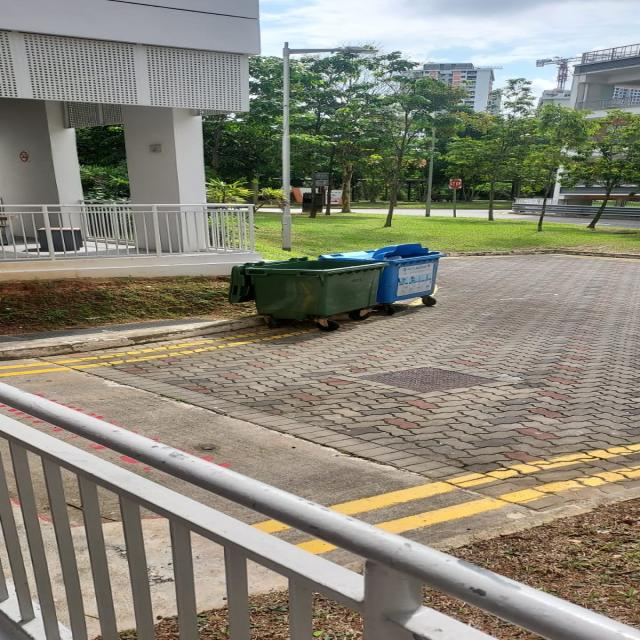bin_empty: (235, 258, 386, 330), (368, 242, 445, 303)
